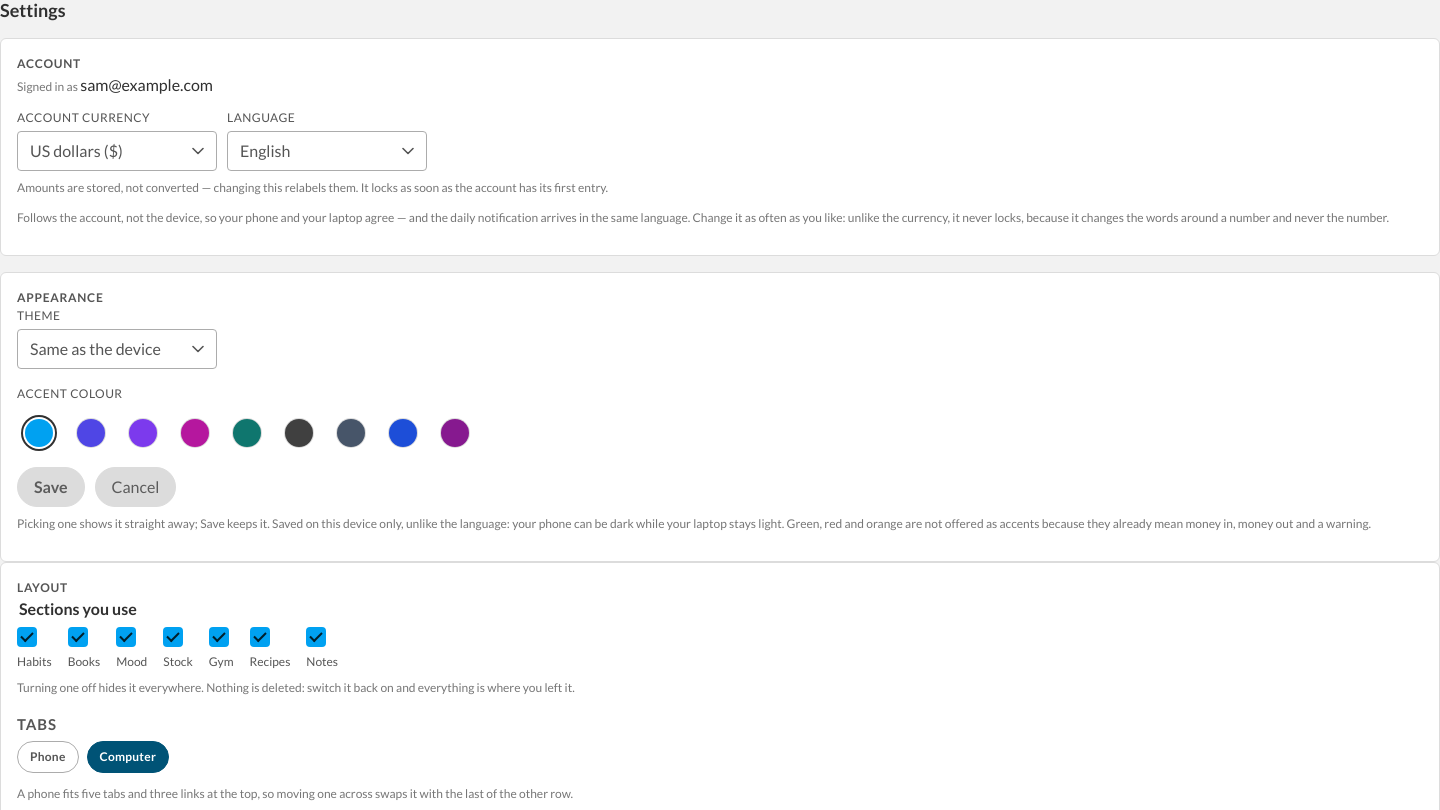
it: SettingsPage › previews a theme and accent, and keeps them on this device only on Save
Expected: the text "sam@example.com" is shown, [80,75,213,94]
Expected: the button "Save" is disabled, [17,467,84,507]
Select "Black (OLED)" in the dropdown labelled "Theme": (117, 349) [17,329,217,369]
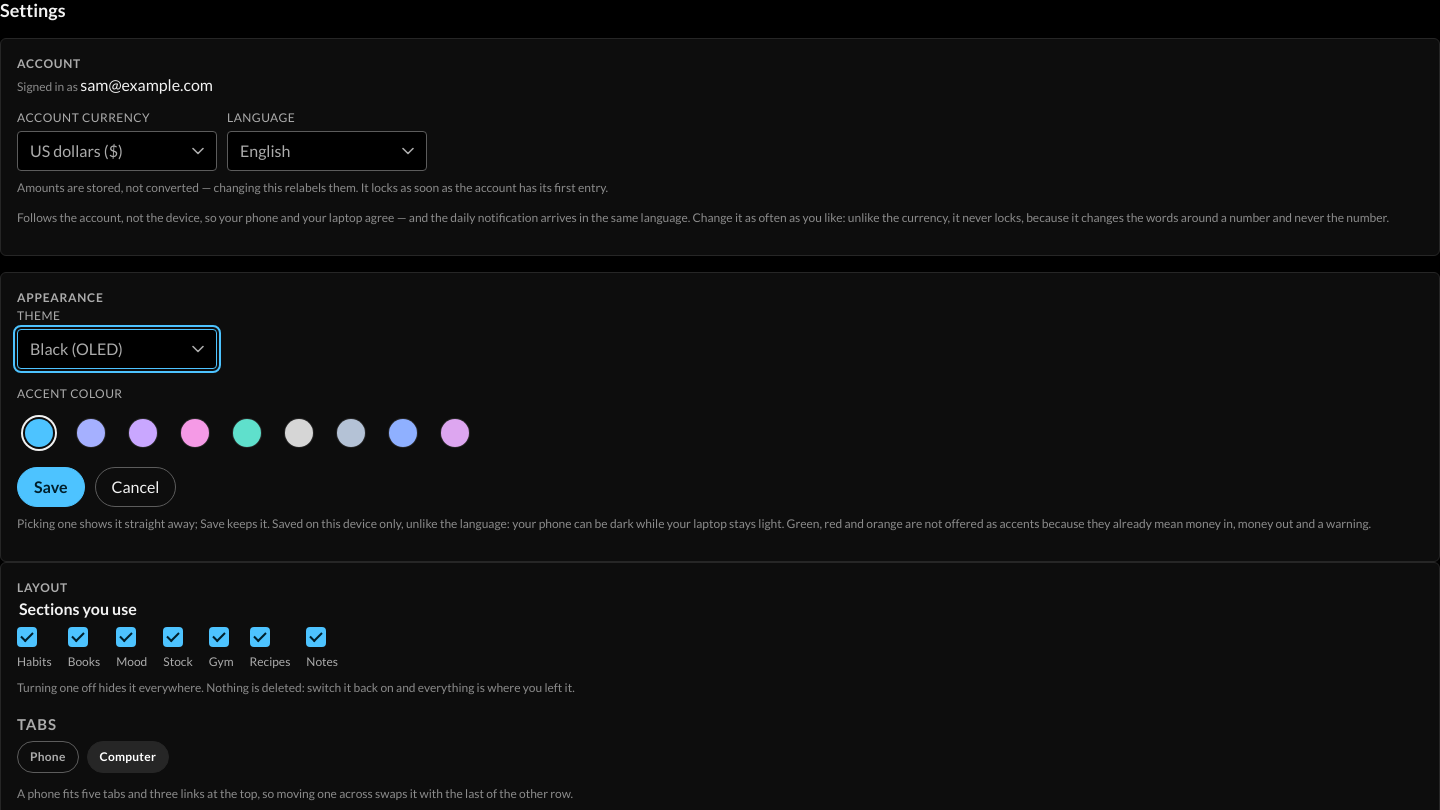
Click the radio button named "Teal": click(247, 433) [225,411,269,455]
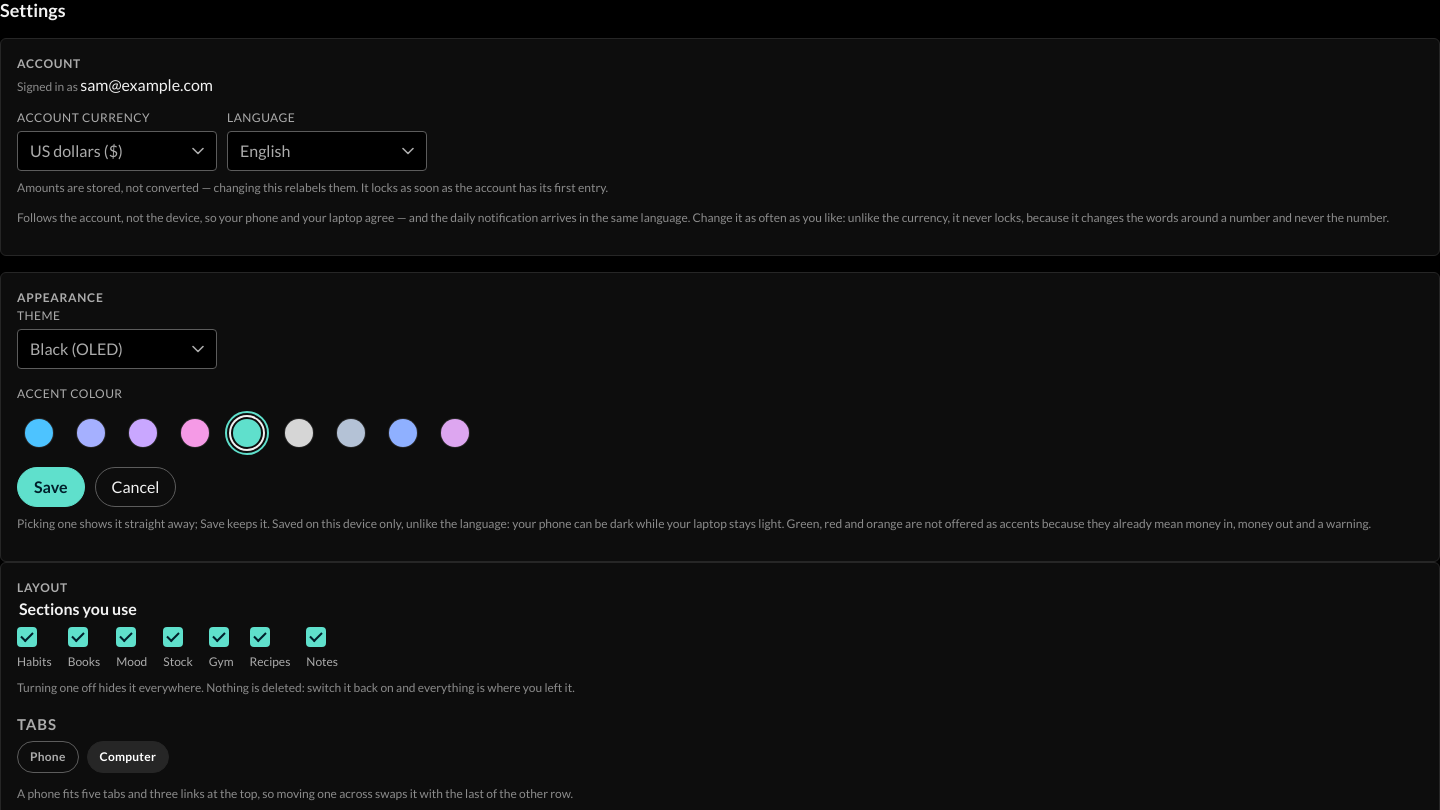
Now the radio button named "Teal" is checked, box [225,411,269,455]
Click the button "Save": click(51, 487) [17,467,84,507]
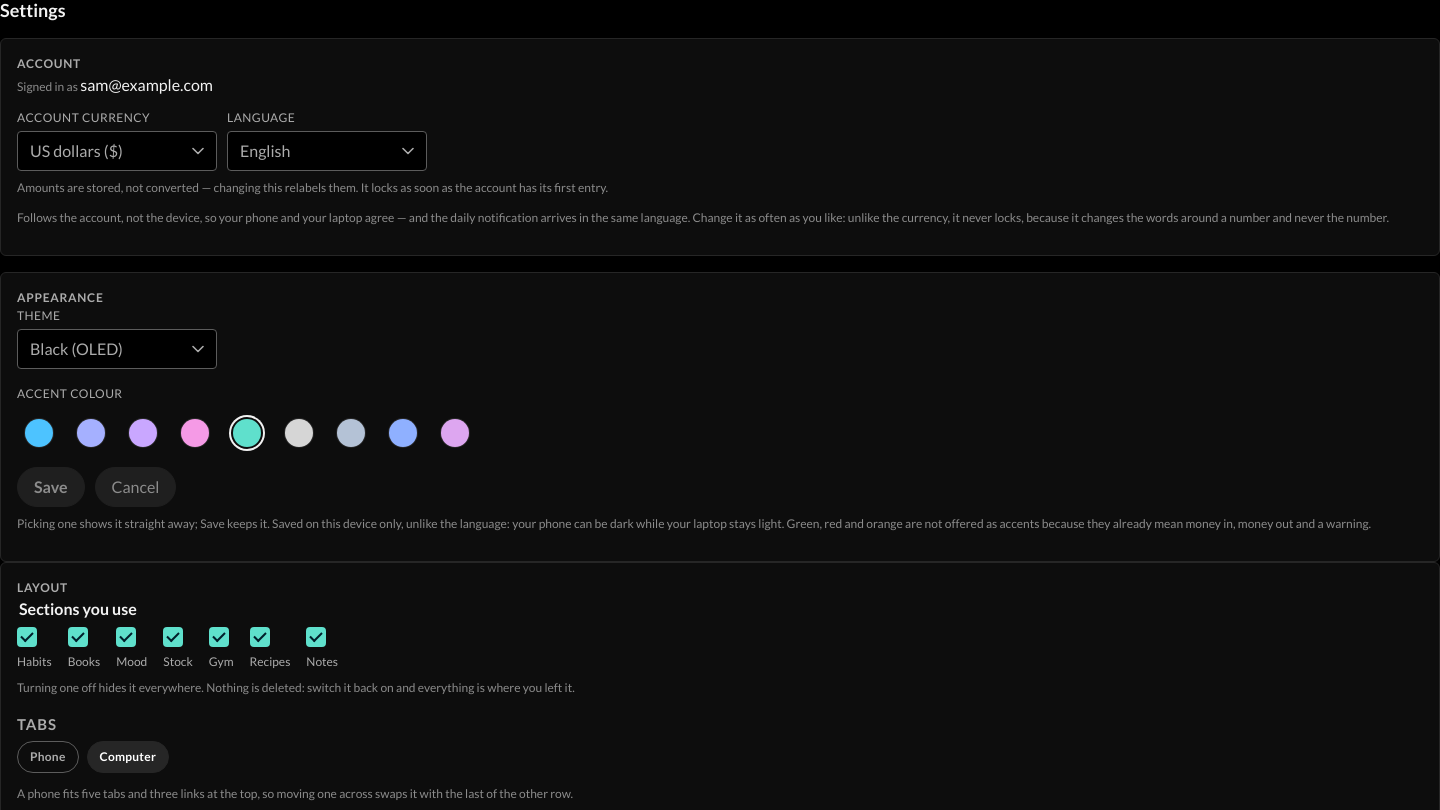
Now the button "Save" is disabled, box [17,467,84,507]
